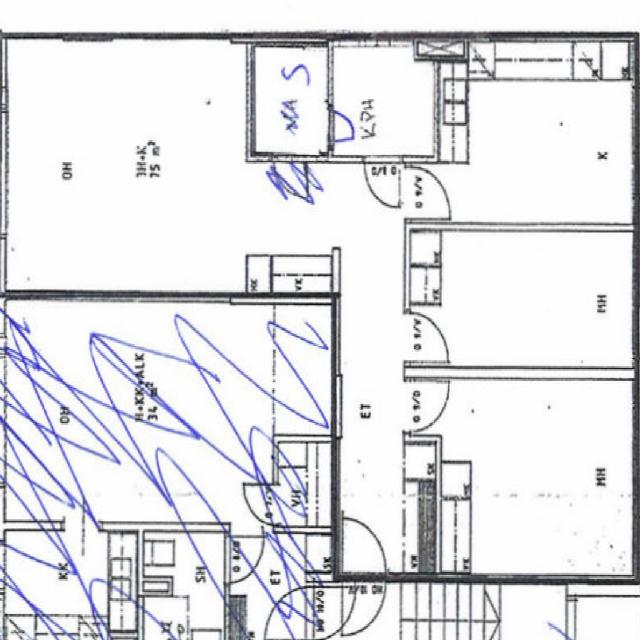door: (342, 574, 387, 640), (342, 518, 387, 584), (404, 168, 450, 218), (404, 381, 449, 432), (404, 312, 449, 361), (363, 156, 400, 210), (328, 108, 360, 142)
